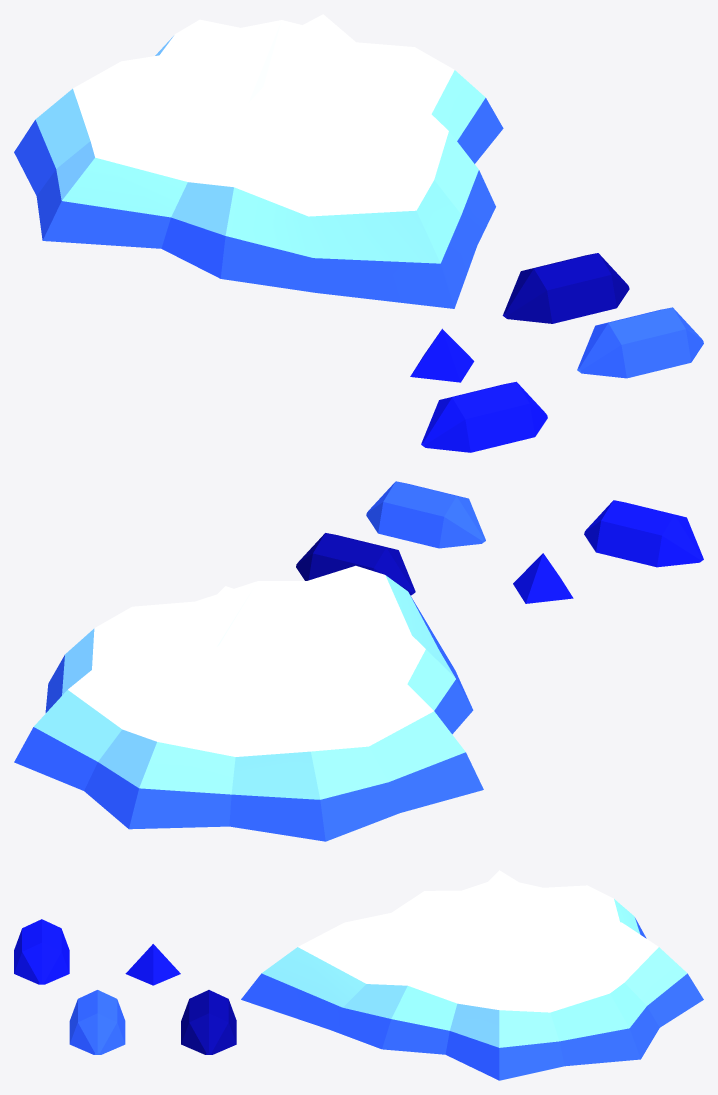
Rendered from shot_ice_143.glb.
3 views of the same model, one above another, from view 1: azimuth 30°, elevation 25°; view 2: azimuth 150°, elevation 25°; view 3: azimuth 270°, elevation 25° (orthographic). The views are drawn at different scales.
Visible parts, largest first — view 1: shot_ice_143_cap, shot_ice_143_trail; view 2: shot_ice_143_cap, shot_ice_143_trail; view 3: shot_ice_143_cap, shot_ice_143_trail.
Boxes of the visible parts, bbox=[...] form: shot_ice_143_cap: bbox=[14, 14, 503, 308]; shot_ice_143_trail: bbox=[410, 253, 703, 452]; shot_ice_143_cap: bbox=[14, 565, 483, 841]; shot_ice_143_trail: bbox=[296, 481, 703, 603]; shot_ice_143_cap: bbox=[241, 870, 703, 1080]; shot_ice_143_trail: bbox=[14, 919, 236, 1054].
Size of the model in its own units: 7.16 by 2.41 by 12.39.
